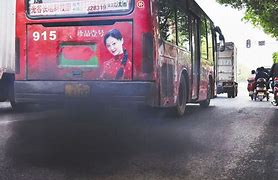smoke: (9, 98, 170, 180)
